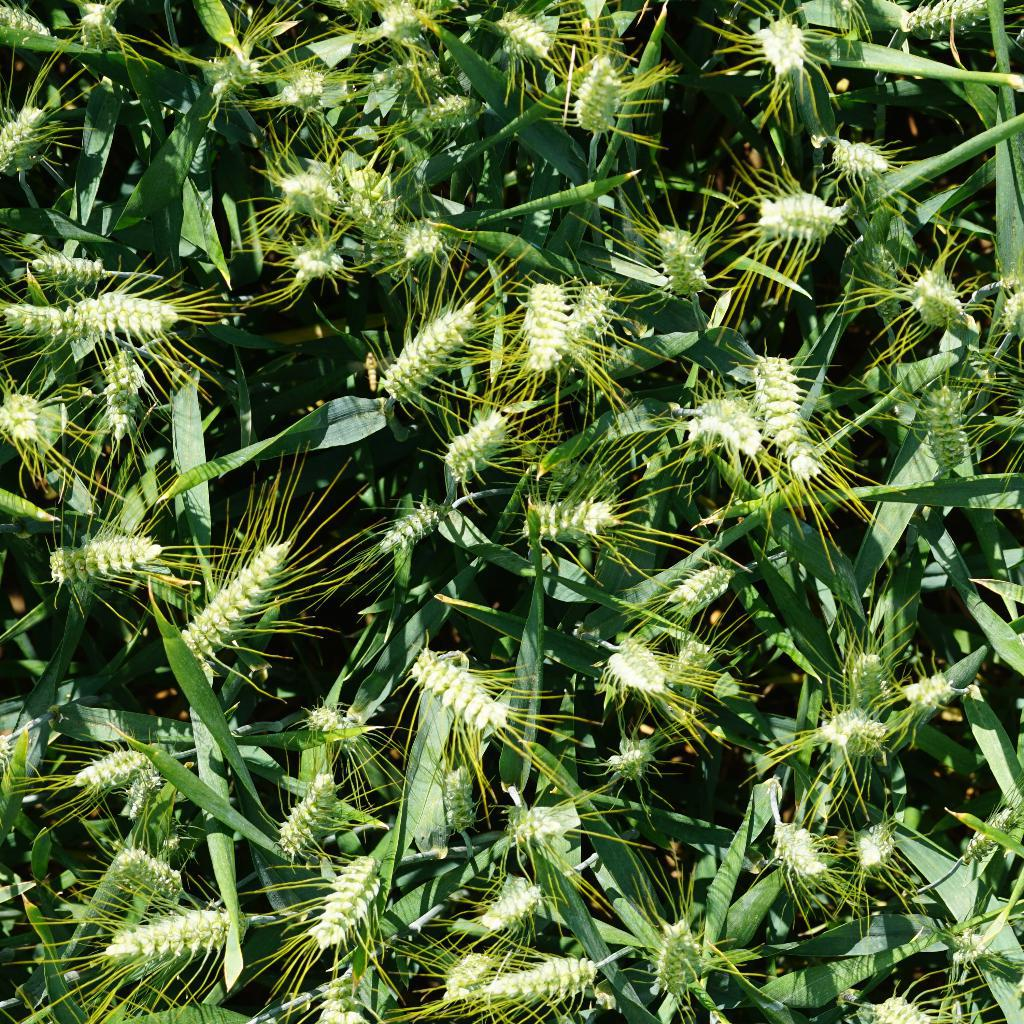0-0: (138, 534, 301, 668), (735, 343, 833, 482), (365, 291, 482, 406), (395, 634, 514, 744), (85, 900, 257, 965), (334, 153, 418, 273), (41, 522, 187, 586), (505, 478, 627, 552), (451, 946, 602, 1004), (68, 281, 206, 342), (645, 900, 724, 1005), (561, 49, 639, 153), (302, 855, 387, 950), (893, 262, 986, 348), (636, 216, 722, 307), (908, 378, 989, 471), (595, 630, 691, 706), (678, 389, 770, 467), (265, 770, 344, 858), (94, 836, 194, 905), (761, 810, 843, 893), (731, 0, 815, 77), (750, 175, 845, 243), (93, 342, 153, 449), (944, 793, 1024, 873), (512, 277, 574, 373), (260, 154, 346, 223), (651, 550, 735, 620), (540, 448, 634, 508), (434, 407, 509, 482), (896, 0, 1013, 47), (294, 959, 378, 1024), (471, 859, 541, 935), (70, 737, 161, 794), (815, 124, 900, 185), (485, 0, 557, 71), (855, 234, 906, 334), (565, 275, 621, 366), (372, 492, 452, 552), (14, 239, 104, 292), (433, 944, 501, 1012), (0, 103, 66, 171), (666, 630, 732, 697), (302, 699, 373, 761), (387, 210, 467, 265), (935, 912, 1004, 975), (836, 642, 896, 714), (284, 231, 357, 290), (201, 40, 271, 100), (0, 386, 59, 456), (841, 815, 901, 882), (593, 722, 656, 785), (811, 701, 890, 751), (867, 972, 942, 1023), (268, 60, 336, 116), (53, 0, 131, 48), (0, 296, 78, 344), (437, 754, 481, 837), (494, 793, 564, 844), (900, 664, 971, 714), (369, 3, 433, 54), (114, 765, 167, 823), (413, 88, 479, 133), (0, 0, 51, 55), (384, 51, 443, 91), (994, 275, 1024, 350), (142, 814, 189, 855)
